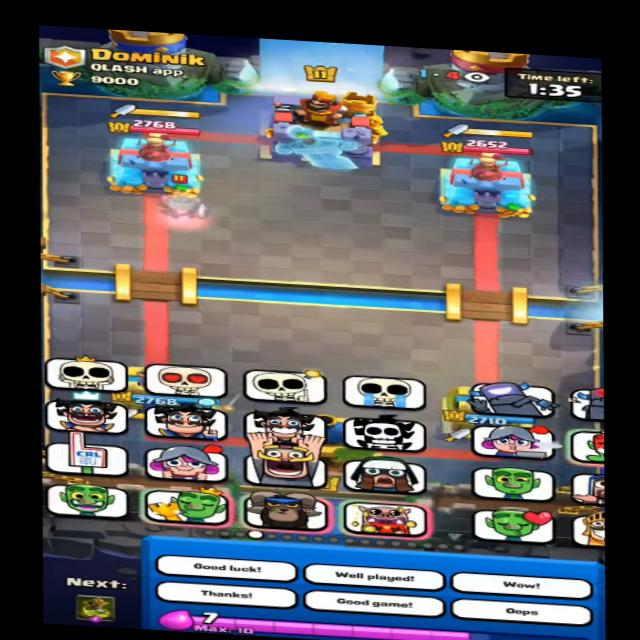royal-ghost: (155, 179, 218, 225)
